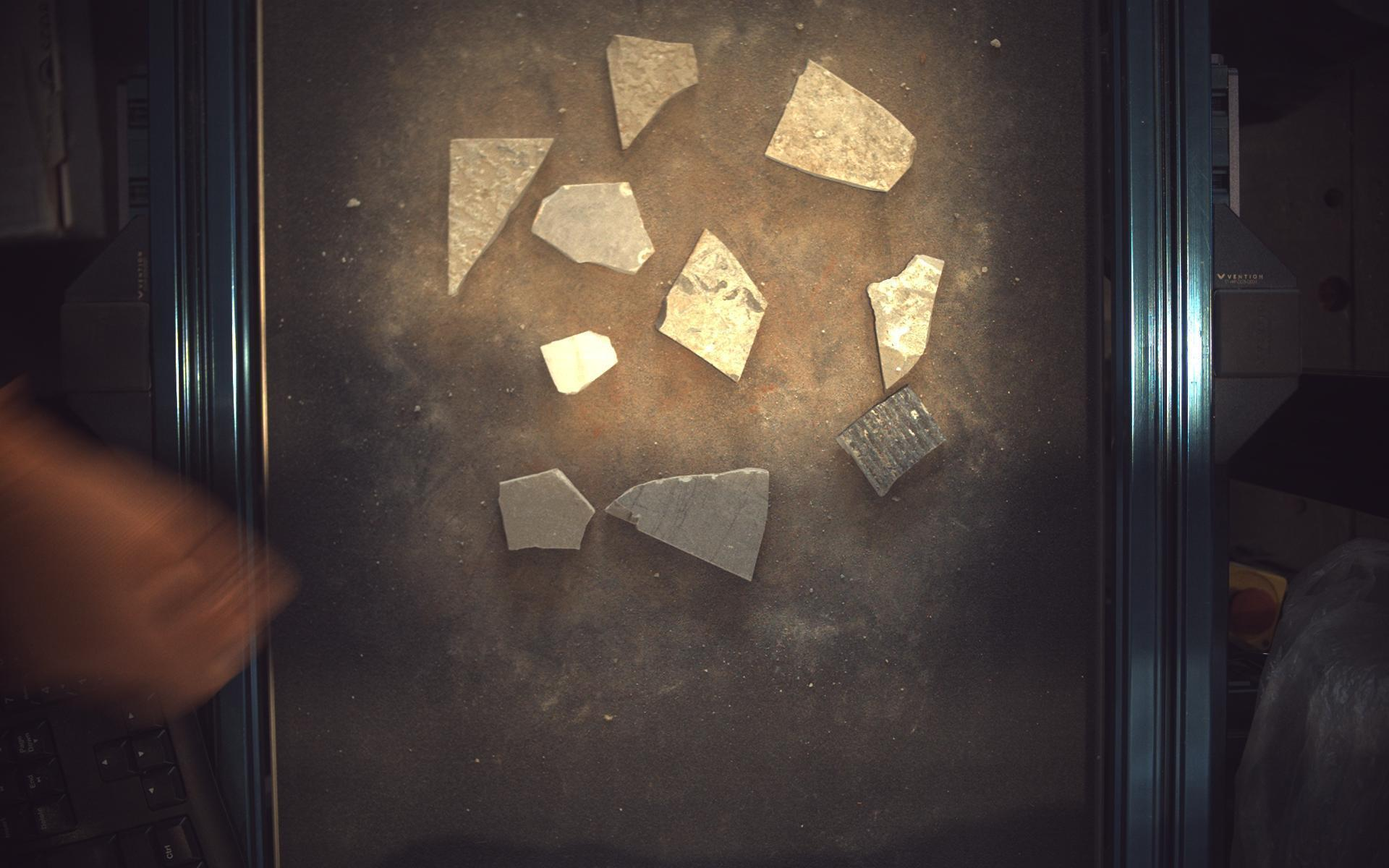tile: (767, 59, 918, 191), (607, 468, 770, 580), (448, 137, 553, 295), (660, 229, 768, 381), (838, 386, 947, 497), (532, 181, 655, 273), (869, 254, 947, 389), (608, 33, 699, 148), (499, 469, 595, 550), (542, 331, 617, 394)
